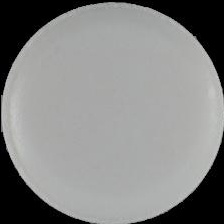0054-0028: (0, 0, 224, 224)
